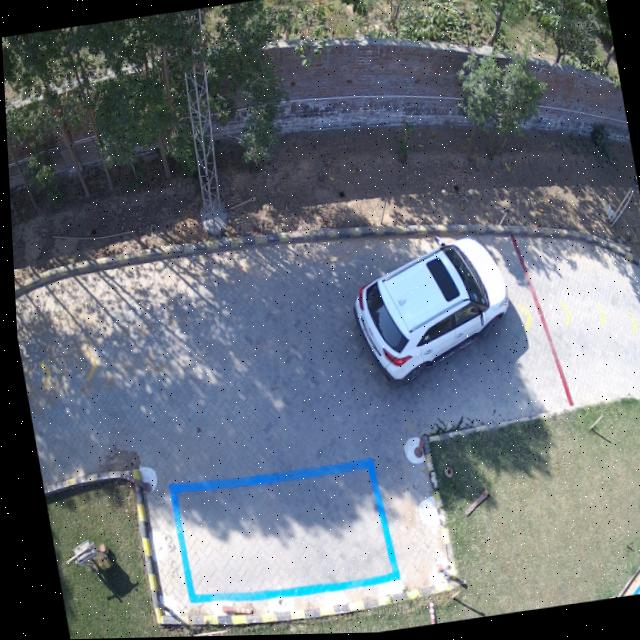car: (350, 240, 505, 381)
